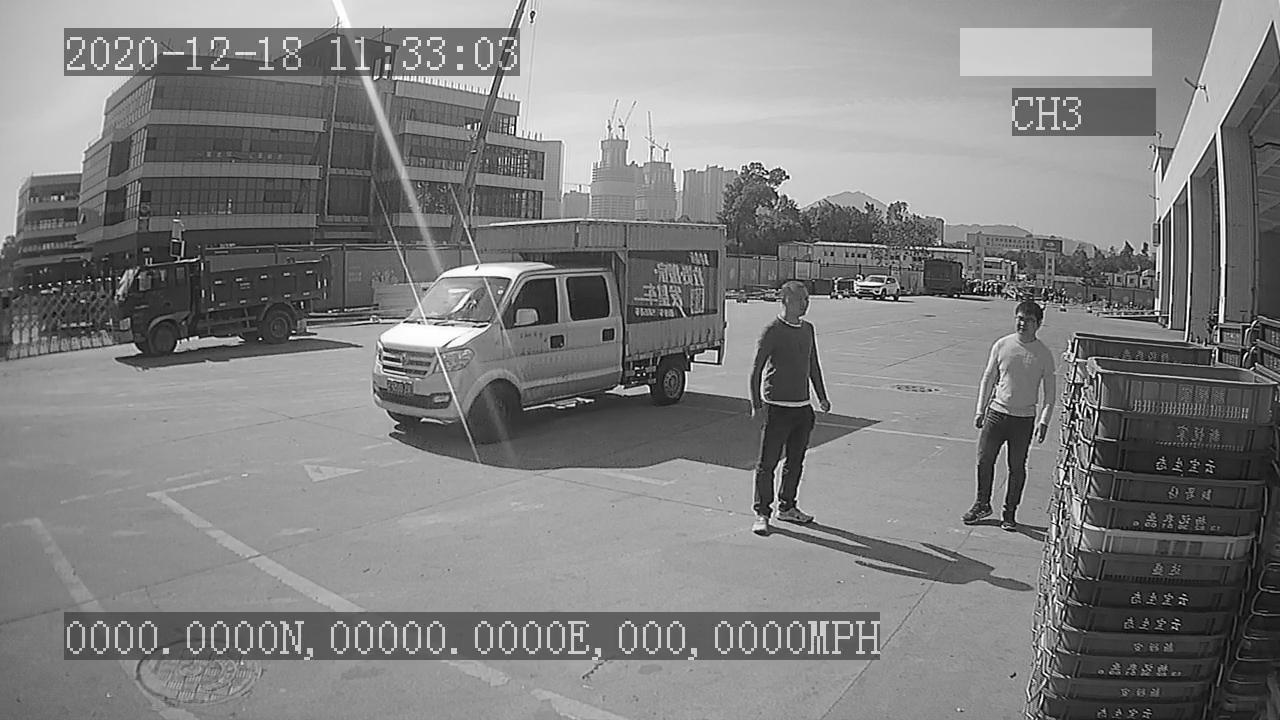person: (748, 279, 835, 536)
